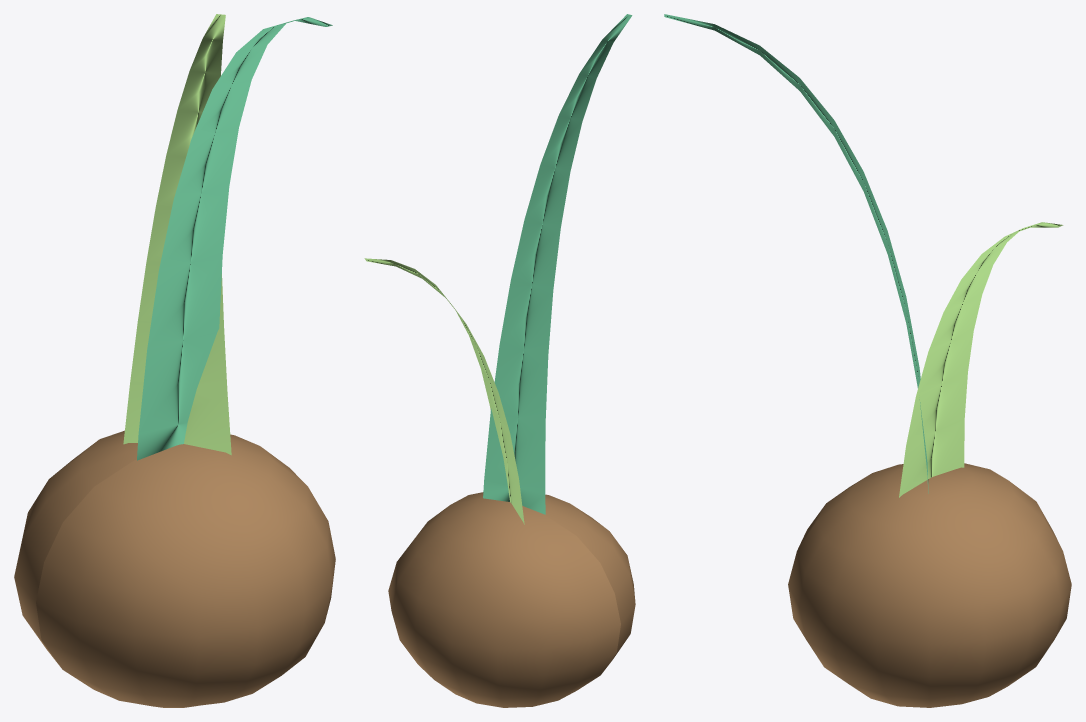
The model's file is palm_seedling_tropical_island_and_palm_trees_6805.glb.
3 renders of one model, left to right at view 1: azimuth 30°, elevation 25°; view 2: azimuth 150°, elevation 25°; view 3: azimuth 270°, elevation 25°, orthographic. The views are drawn at different scales.
Visible parts, largest first — view 1: palm-seedling; view 2: palm-seedling; view 3: palm-seedling.
Part boxes in pixels (x1,y1,x2,y2): palm-seedling: (14,14,335,707); palm-seedling: (364,14,635,707); palm-seedling: (664,14,1071,707).
Bounding box in the file's own units: 0.32 × 0.8455 × 0.4597.
